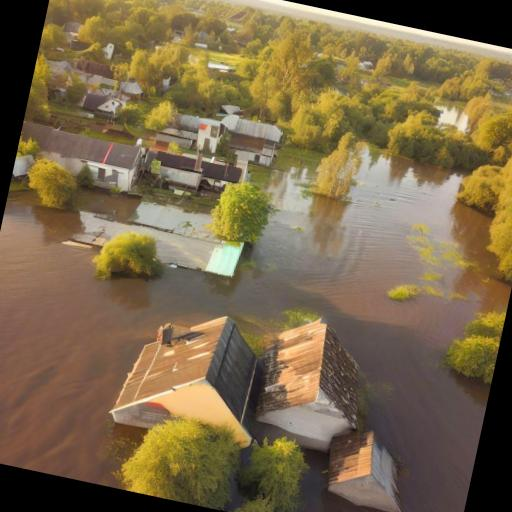flood: (0, 151, 511, 512), (71, 203, 242, 277), (437, 104, 468, 130)
house: (110, 298, 283, 436), (249, 304, 378, 450), (11, 118, 145, 204), (314, 423, 413, 512), (146, 138, 248, 204), (208, 104, 286, 164)
